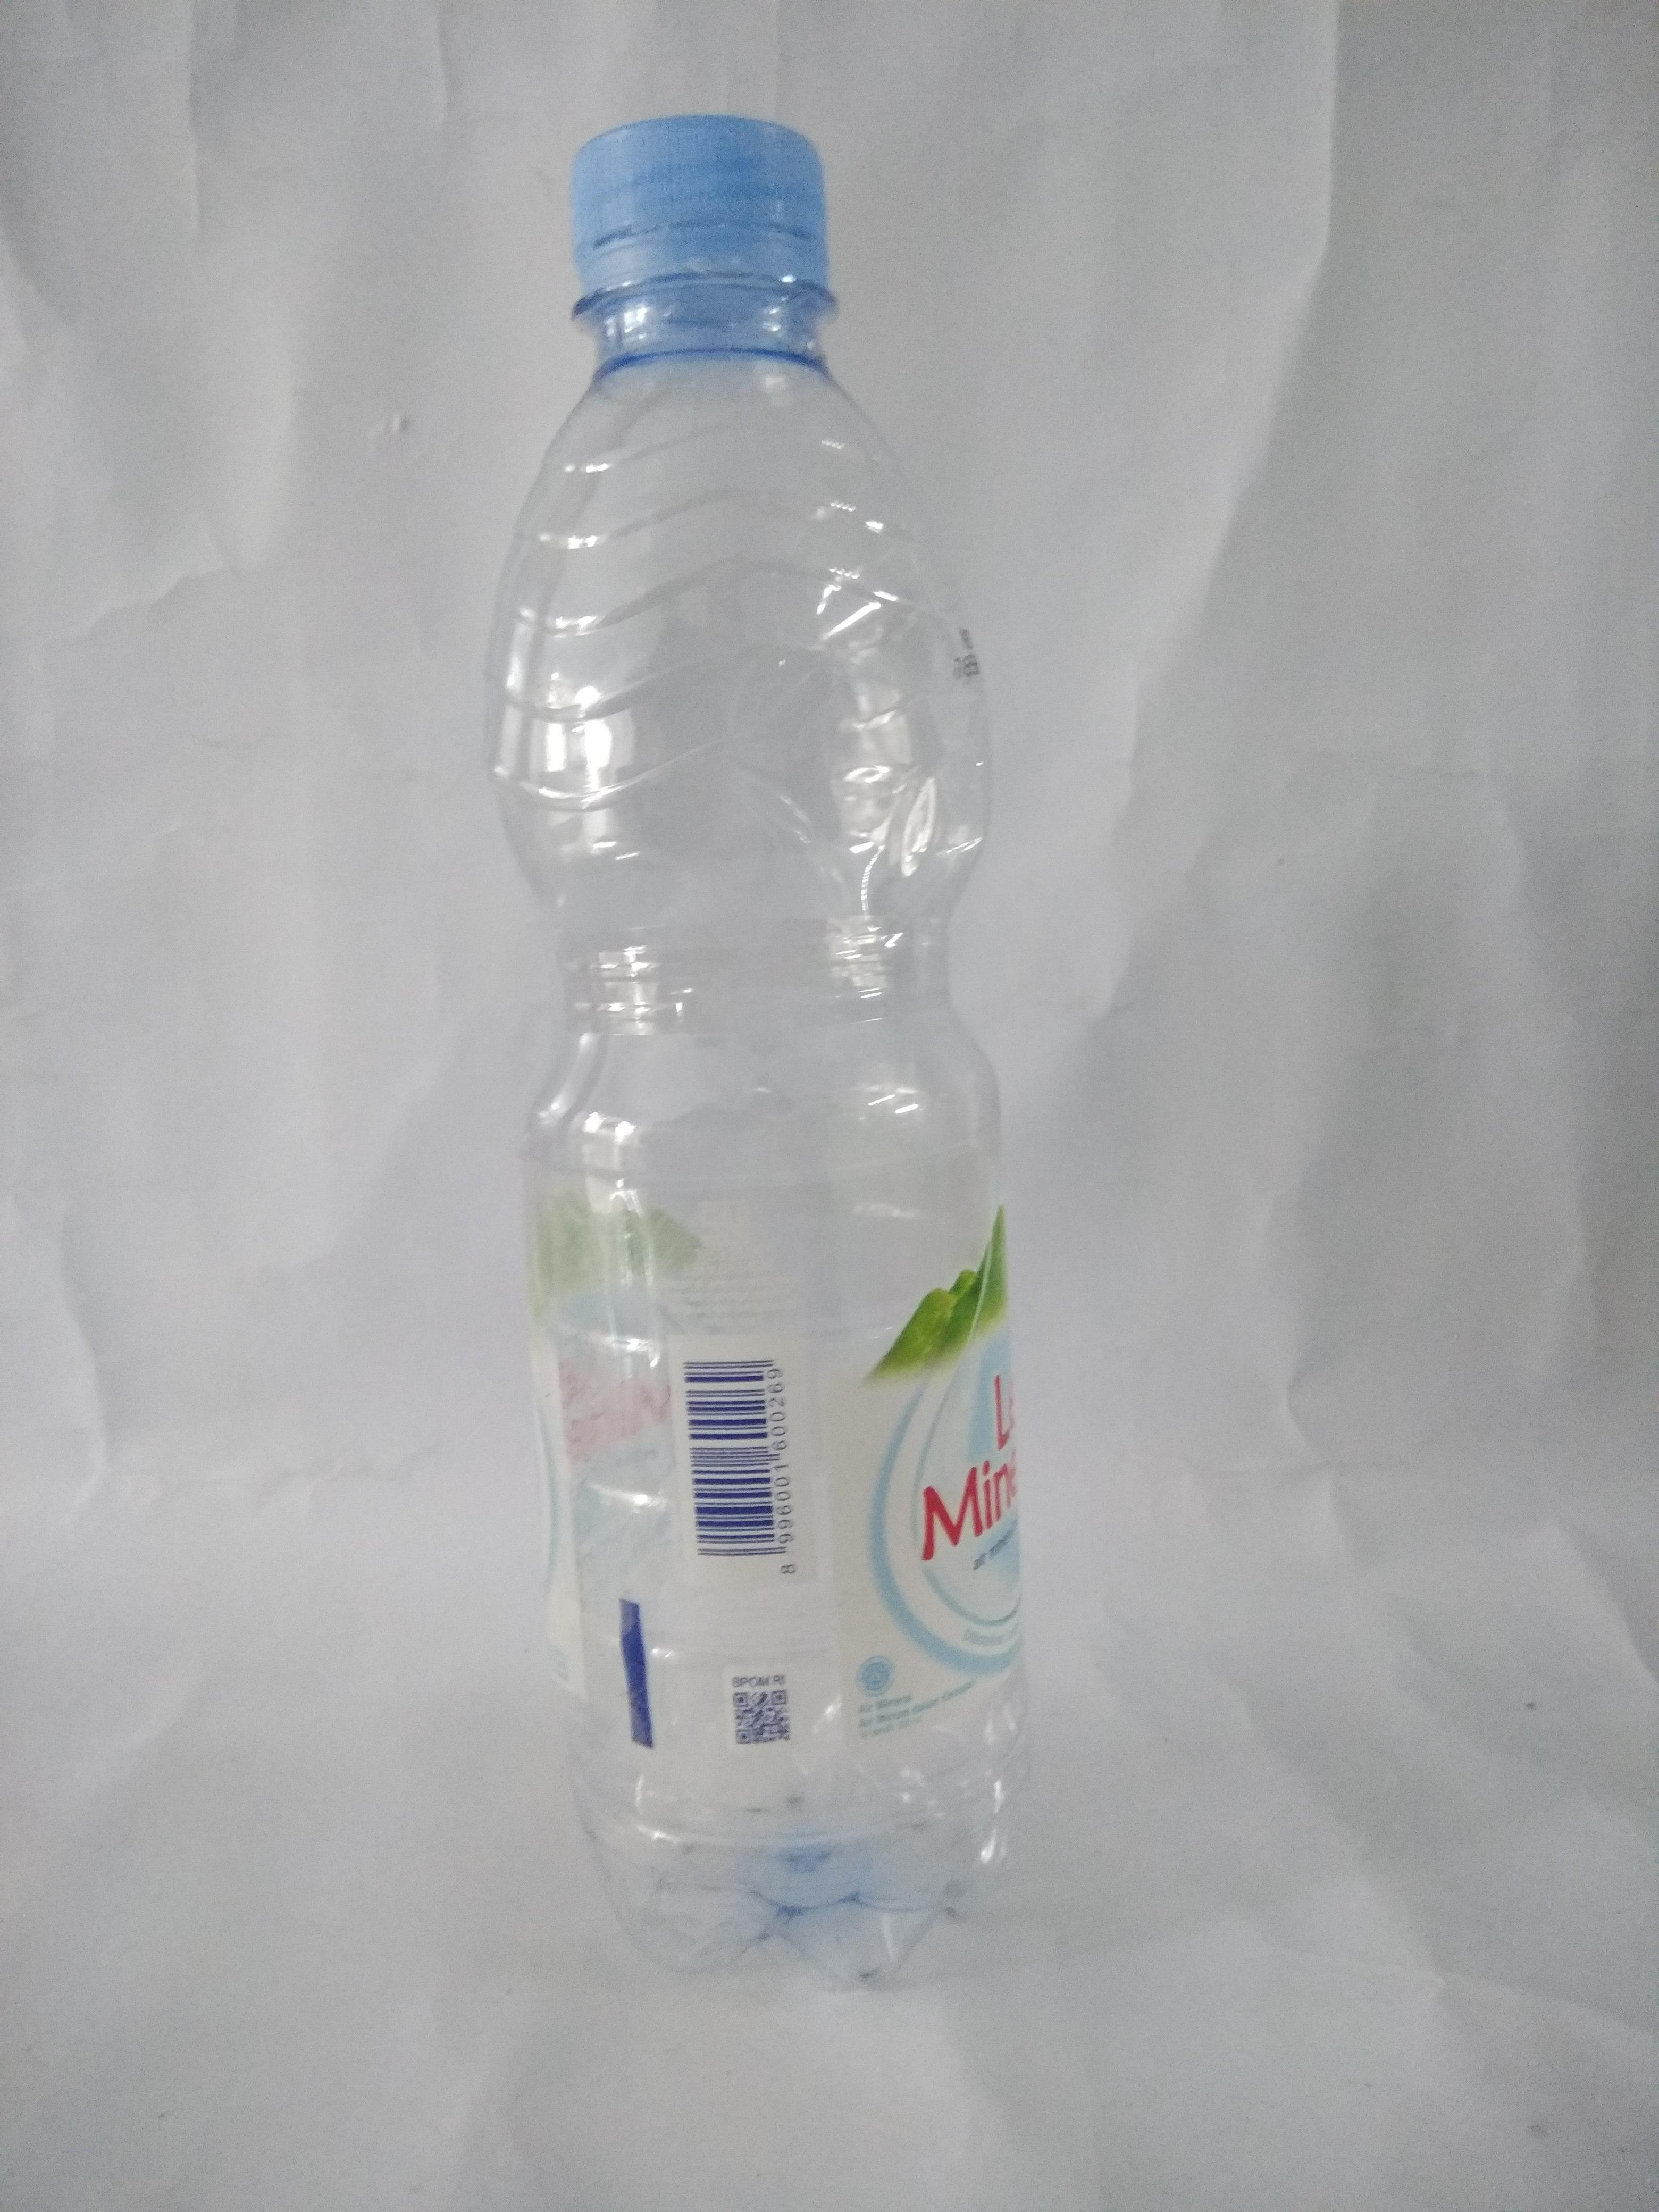HDPE: (566, 115, 829, 293)
PETE: (490, 293, 1030, 1991)
PP: (526, 1184, 1035, 1747)
